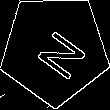N_NW: (24, 19, 85, 80)
